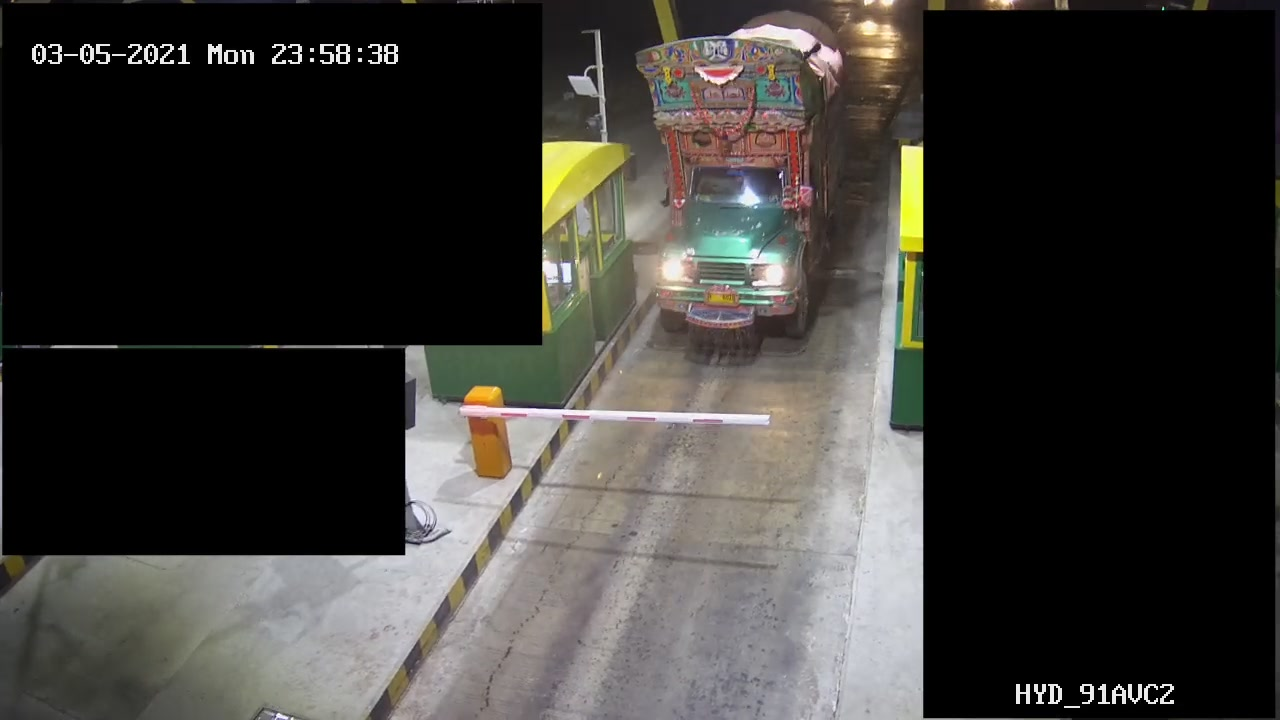F5: (633, 7, 848, 366)
